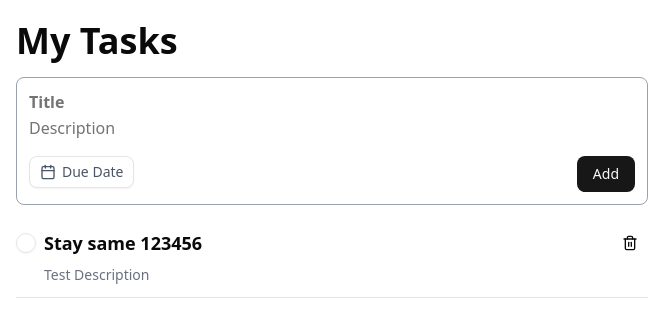
Test: App › cancels edit and restores view without changing
Check: the heading "My Tasks" is shown, box [16,16,178,65]
Click the button "Stay same 123456 Test Description": (123, 243) [16,221,648,298]
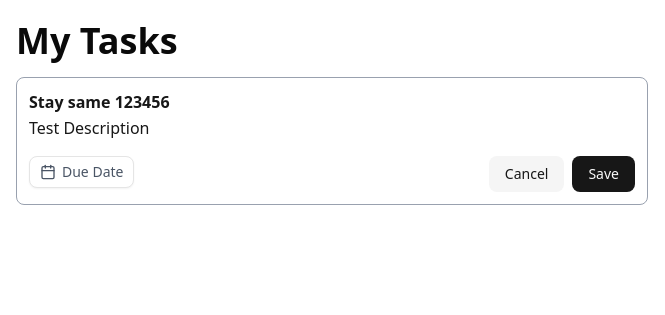
Check: the button "Cancel" is shown
Click the button "Cancel": (527, 174) [489,156,564,192]
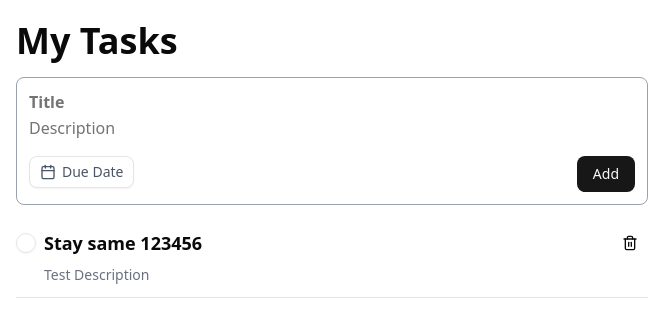
Check: the button "Stay same 123456 Test Description" is shown, box [16,221,648,298]
Check: the button "Add" is shown, box [577,156,635,192]
